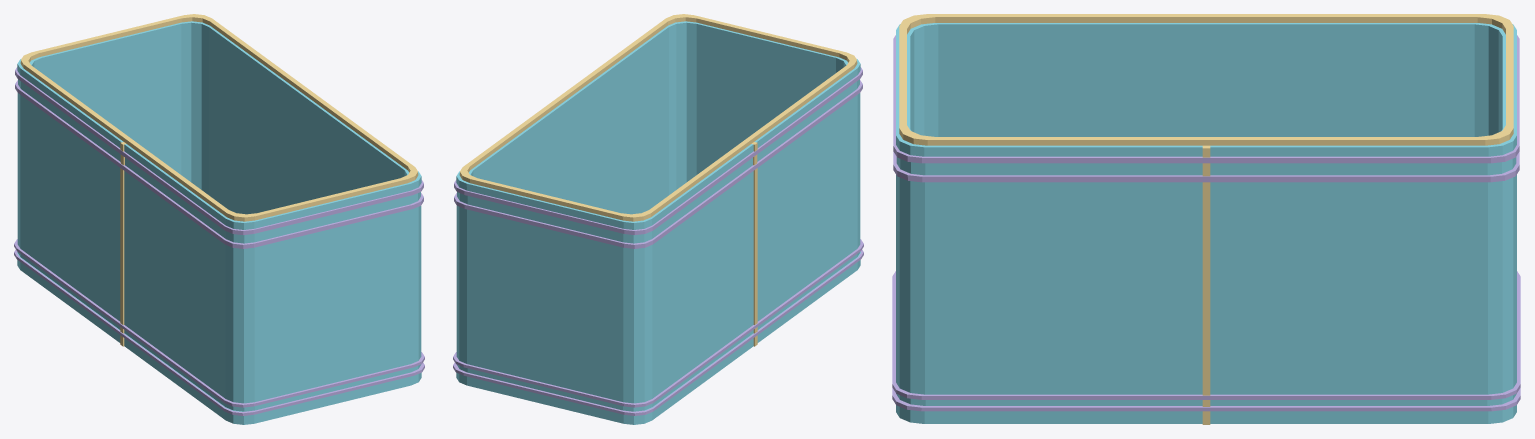
Rendered from Toybox model.fbx.
3 views of the same model, side by side, from view 1: azimuth 30°, elevation 25°; view 2: azimuth 150°, elevation 25°; view 3: azimuth 270°, elevation 25° (orthographic). The views are drawn at different scales.
Parts seen in each view (by area): view 1: Cube; view 2: Cube; view 3: Cube.
Part boxes in pixels (<box>): Cube: <box>14,14,424,424</box>; Cube: <box>453,14,863,424</box>; Cube: <box>892,14,1520,424</box>.
Bounding box in the file's own units: 205 × 204 × 411.
